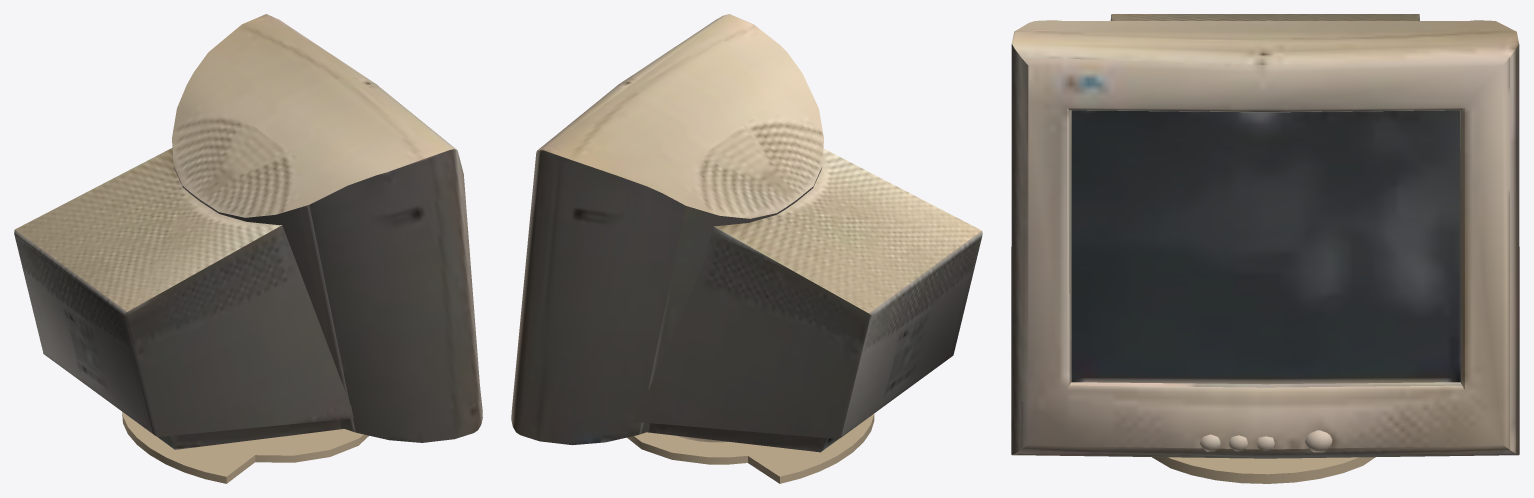
Rendered from crt.glb.
The picture shows the model from 3 angles, left to right: view 1: azimuth 30°, elevation 25°; view 2: azimuth 150°, elevation 25°; view 3: azimuth 270°, elevation 25°; orthographic projection. The views are drawn at different scales.
Parts seen in each view (by area): view 1: Cube.001_Material.006_0; view 2: Cube.001_Material.006_0; view 3: Cube.001_Material.006_0.
Boxes of the visible parts, <box> form: Cube.001_Material.006_0: <box>14,14,482,483</box>; Cube.001_Material.006_0: <box>511,14,982,483</box>; Cube.001_Material.006_0: <box>1011,14,1519,483</box>.
Bounding box in the file's own units: 0.42 × 0.3814 × 0.4019.
1 material, 1 textured.
